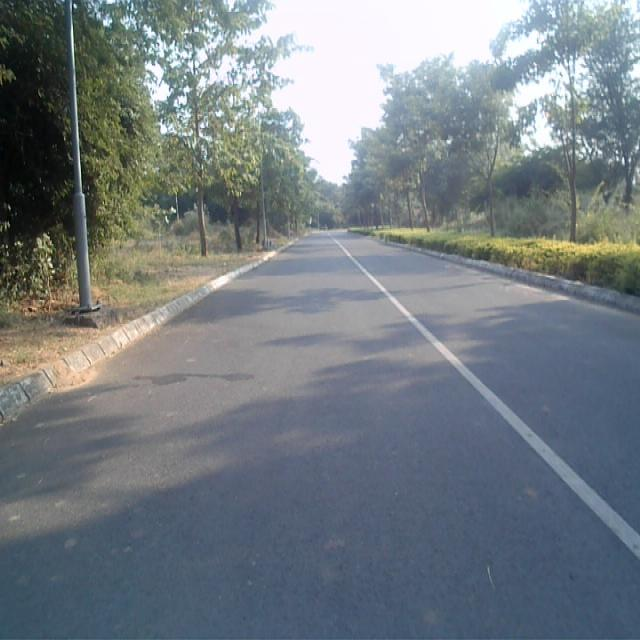lane: (0, 234, 640, 640)
